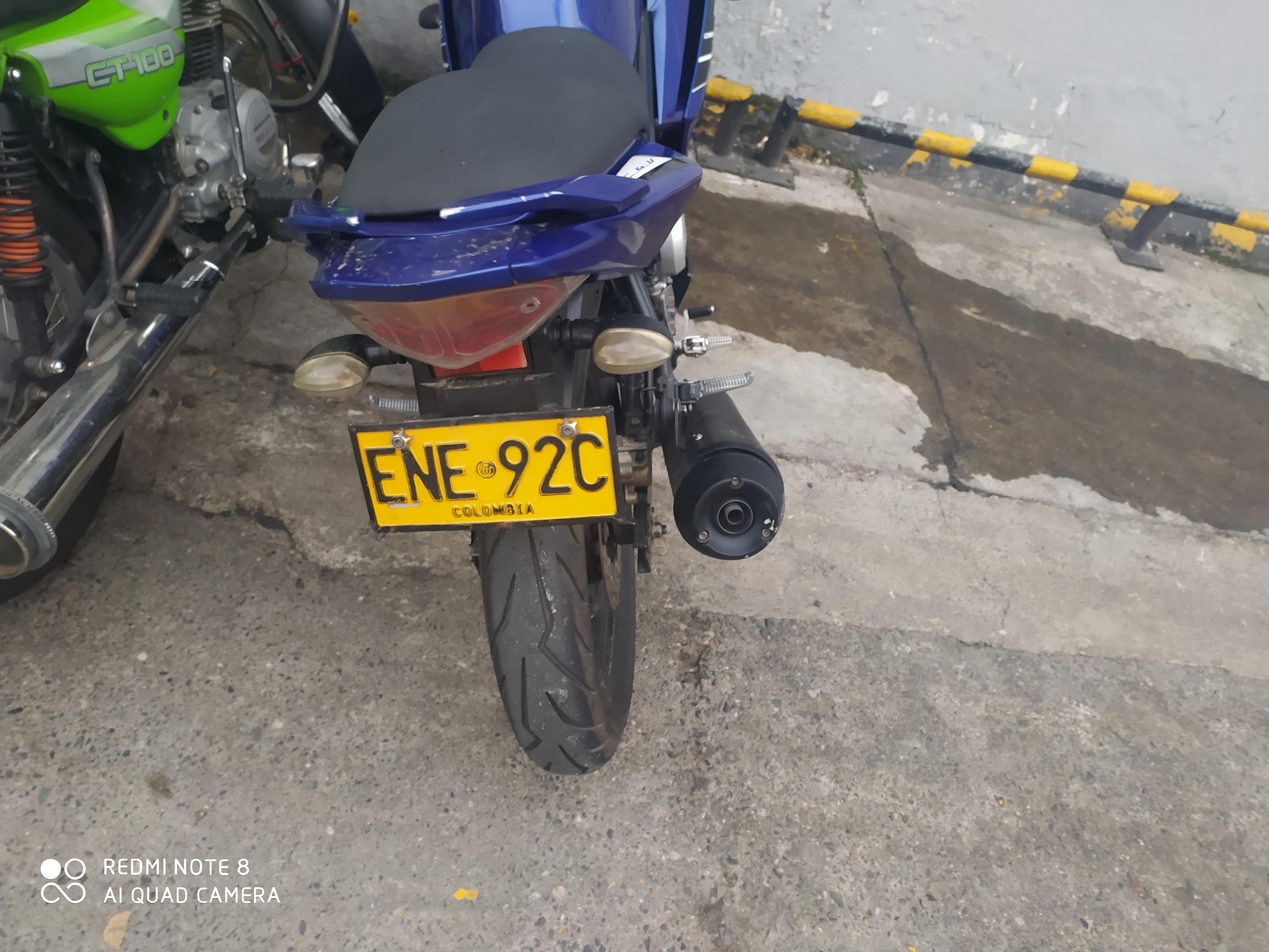placa: (325, 390, 647, 549)
